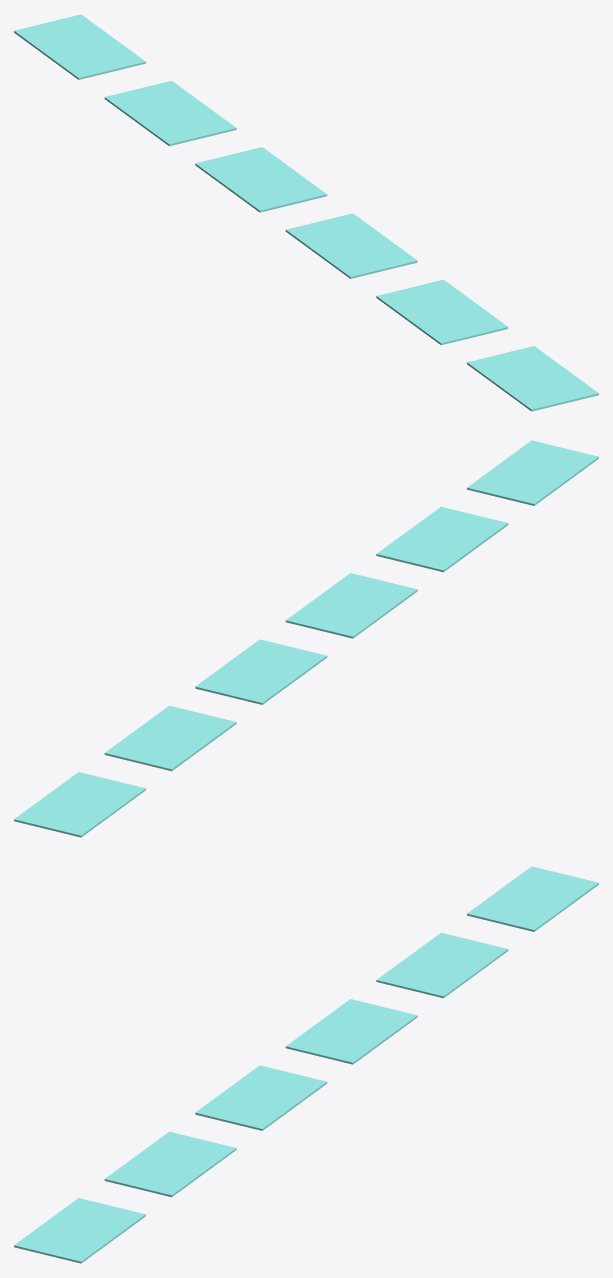
The model's file is marking_curb_blue_segment.glb.
The picture shows the model from 3 angles, top to bottom: view 1: azimuth 30°, elevation 25°; view 2: azimuth 150°, elevation 25°; view 3: azimuth 330°, elevation 25°; orthographic projection.
Visible parts, largest first — view 1: curb_blue_2, curb_blue_3, curb_blue_0, curb_blue_5, curb_blue_1, curb_blue_4; view 2: curb_blue_2, curb_blue_3, curb_blue_0, curb_blue_5, curb_blue_1, curb_blue_4; view 3: curb_blue_2, curb_blue_3, curb_blue_0, curb_blue_5, curb_blue_1, curb_blue_4.
Part boxes in pixels (x1,y1,x2,y2): curb_blue_2: (195,147,327,212); curb_blue_3: (285,213,417,278); curb_blue_0: (14,14,145,79); curb_blue_5: (467,346,598,411); curb_blue_1: (104,80,236,146); curb_blue_4: (376,279,508,345); curb_blue_2: (195,639,327,704); curb_blue_3: (285,573,417,638); curb_blue_0: (14,772,145,837); curb_blue_5: (467,440,598,505); curb_blue_1: (104,705,236,771); curb_blue_4: (376,506,508,572); curb_blue_2: (285,999,417,1064); curb_blue_3: (195,1065,327,1130); curb_blue_0: (467,866,598,931); curb_blue_5: (14,1198,145,1263); curb_blue_1: (376,932,508,998); curb_blue_4: (104,1131,236,1197).
Size of the model in its own units: 0.18 by 0.005 by 2.4.
